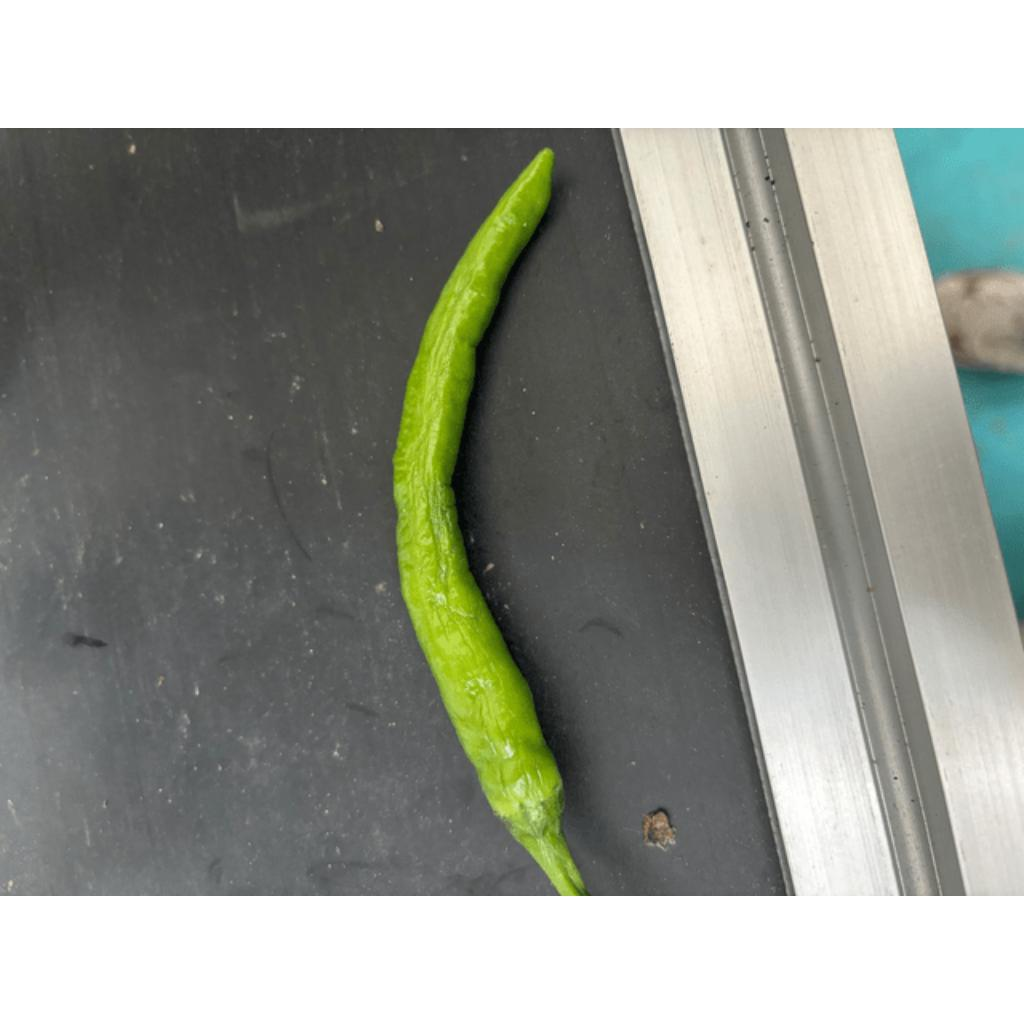chili: (388, 139, 573, 859)
